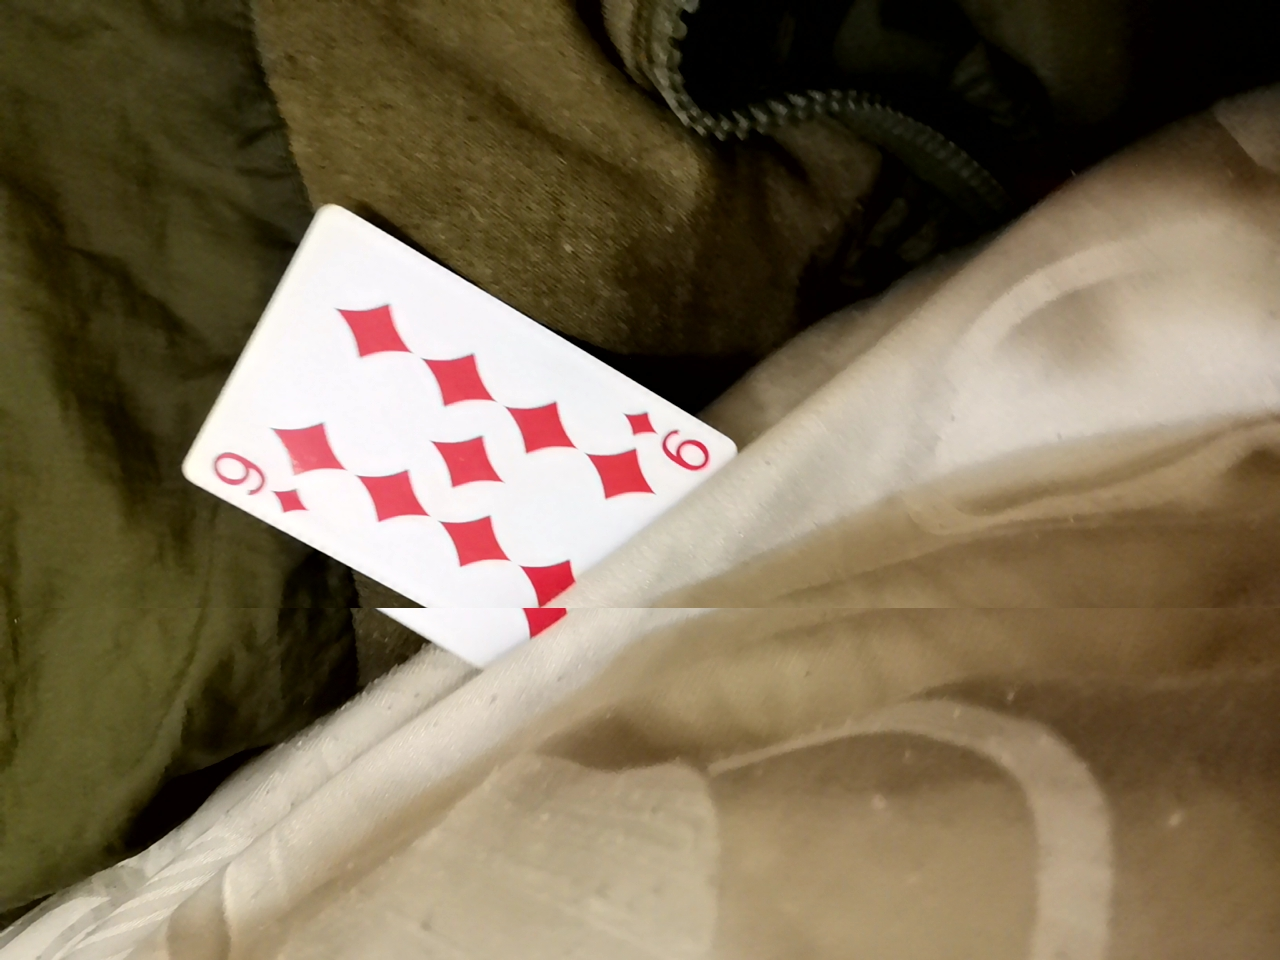fk 9: (157, 201, 730, 670)
